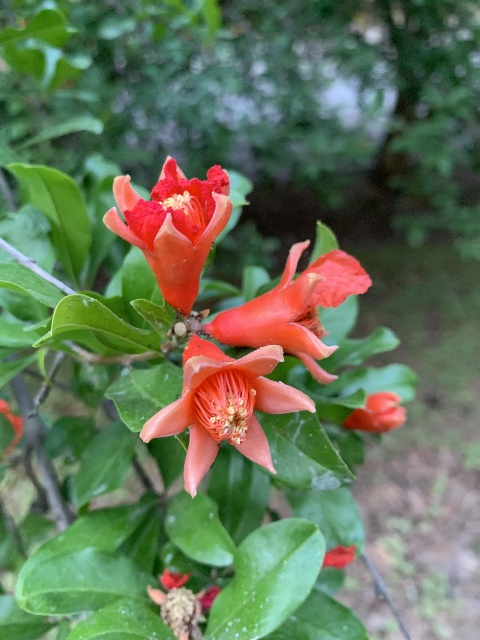flower: (140, 336, 316, 497), (205, 239, 374, 386), (103, 155, 233, 316), (342, 391, 406, 433)
